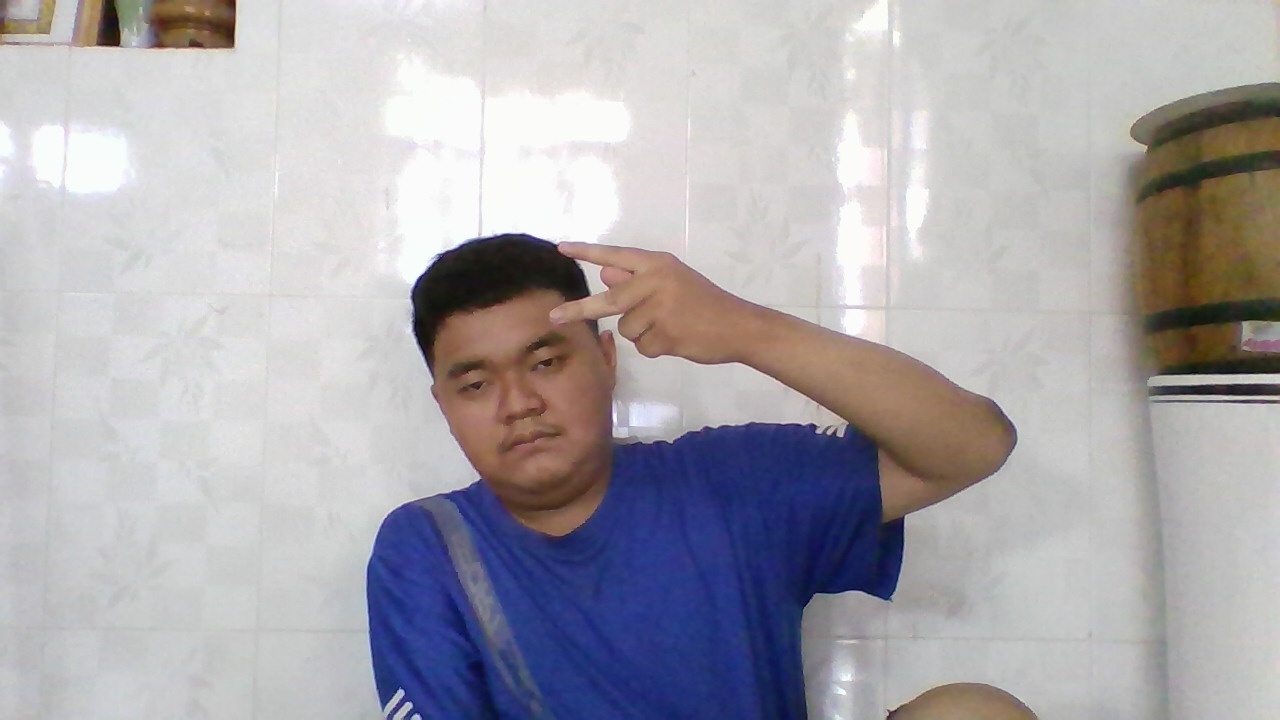K: (537, 227, 757, 367)
